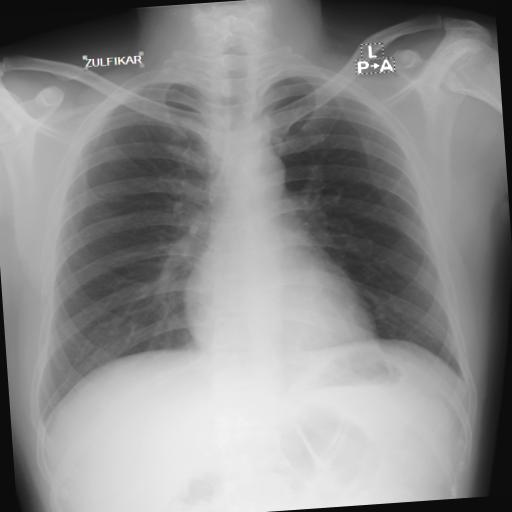normal: (5, 36, 480, 430)
